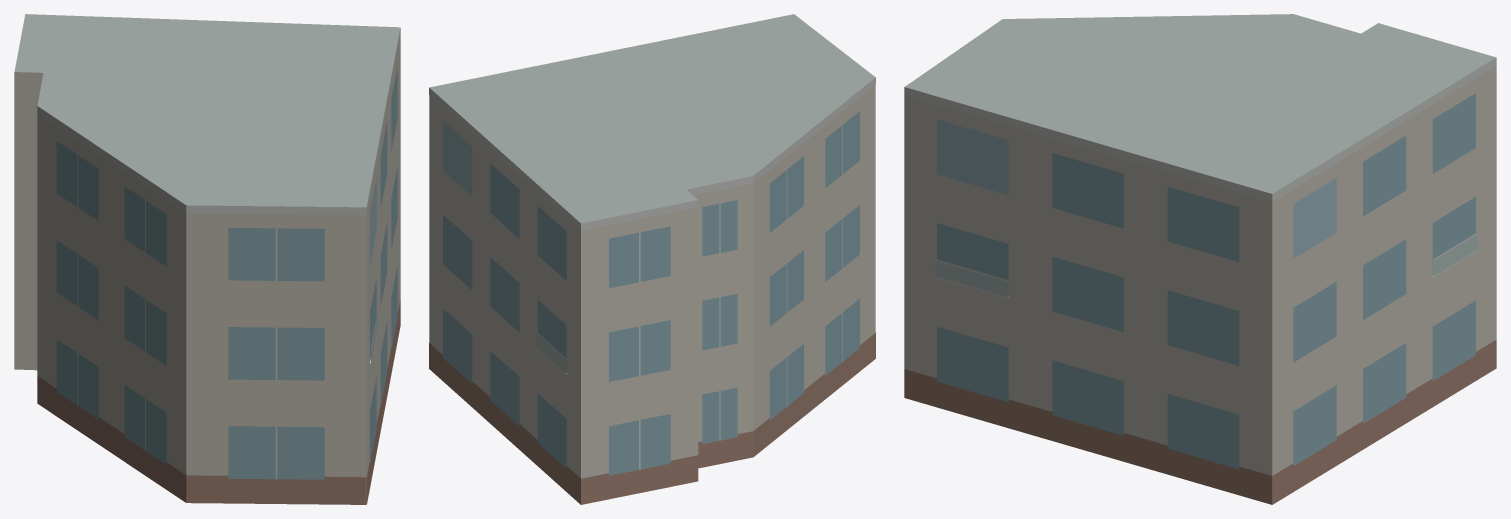
File: survey-upis-32698008.glb
3 views of the same model, side by side, from view 1: azimuth 30°, elevation 25°; view 2: azimuth 150°, elevation 25°; view 3: azimuth 270°, elevation 25° (orthographic). The views are drawn at different scales.
Visible parts, largest first — view 1: survey-upis-32698008.tmp; view 2: survey-upis-32698008.tmp; view 3: survey-upis-32698008.tmp.
Boxes of the visible parts, x1=… form: survey-upis-32698008.tmp: x1=14, y1=14, x2=400, y2=504; survey-upis-32698008.tmp: x1=429, y1=14, x2=875, y2=504; survey-upis-32698008.tmp: x1=904, y1=14, x2=1496, y2=504.
Bounding box in the file's own units: 11.37 × 9.15 × 15.8.
